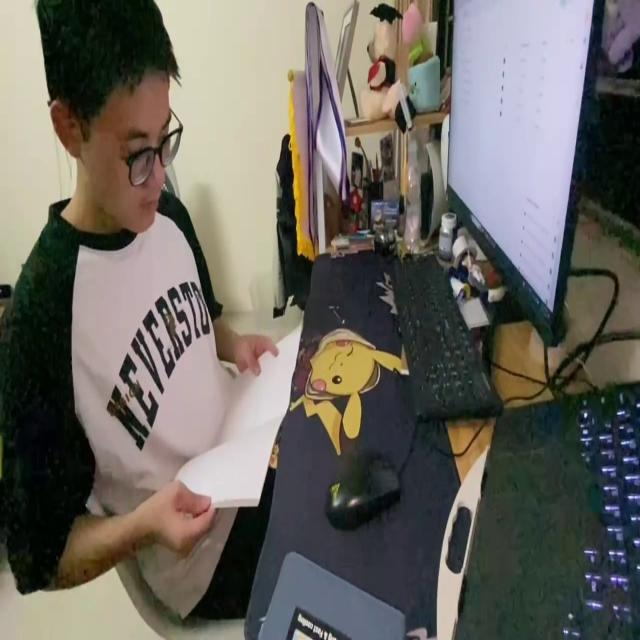book: (174, 317, 302, 520)
laptop: (446, 2, 612, 350), (452, 381, 640, 640)
student: (0, 0, 277, 623)
